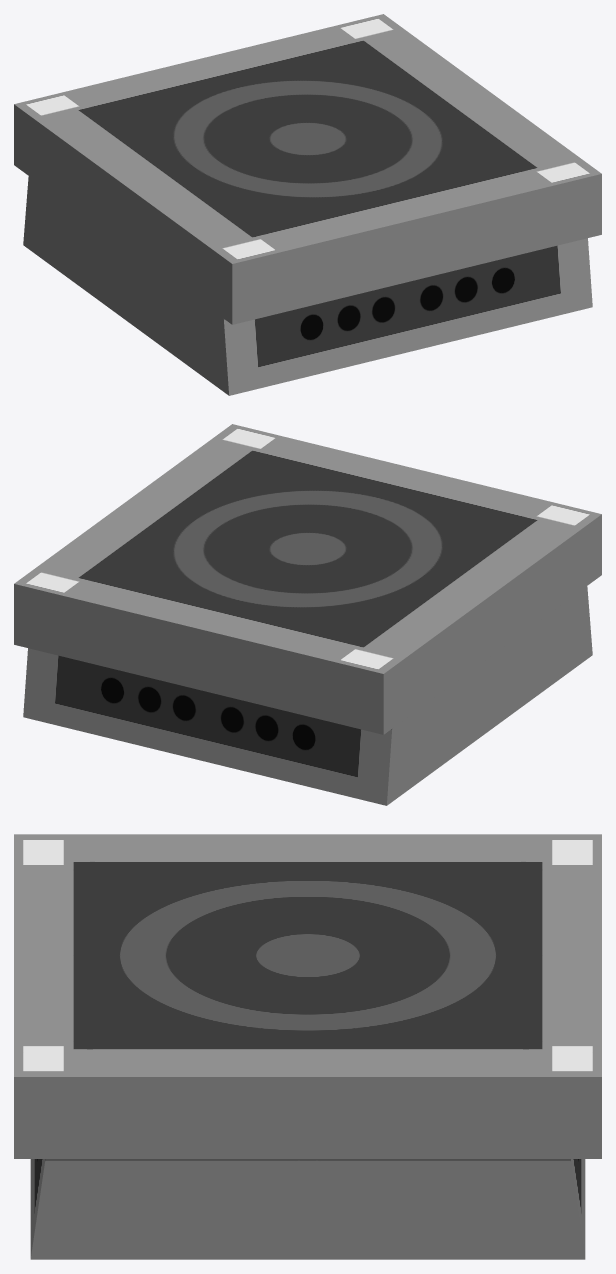
File: Fire_konroIH.fbx
3 views of the same model, one above another, from view 1: azimuth 30°, elevation 25°; view 2: azimuth 150°, elevation 25°; view 3: azimuth 270°, elevation 25° (orthographic). The views are drawn at different scales.
Visible parts, largest first — view 1: Cube; view 2: Cube; view 3: Cube.
Part boxes in pixels (left/top/right/bottom): Cube: left=14, top=14, right=601, bottom=395; Cube: left=14, top=424, right=601, bottom=805; Cube: left=14, top=834, right=601, bottom=1259.
Bounding box in the file's own units: 271 × 96.02 × 277.
1 material, 1 textured.
